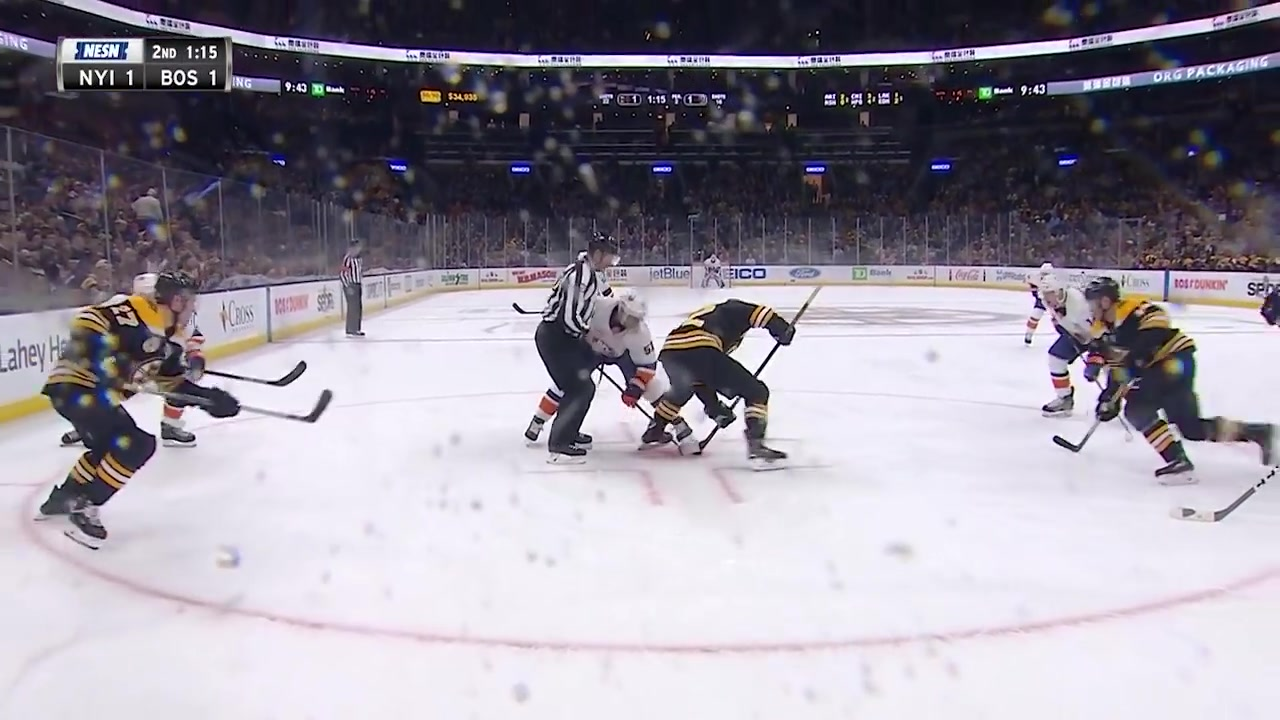Geico: (722, 261, 772, 287)
